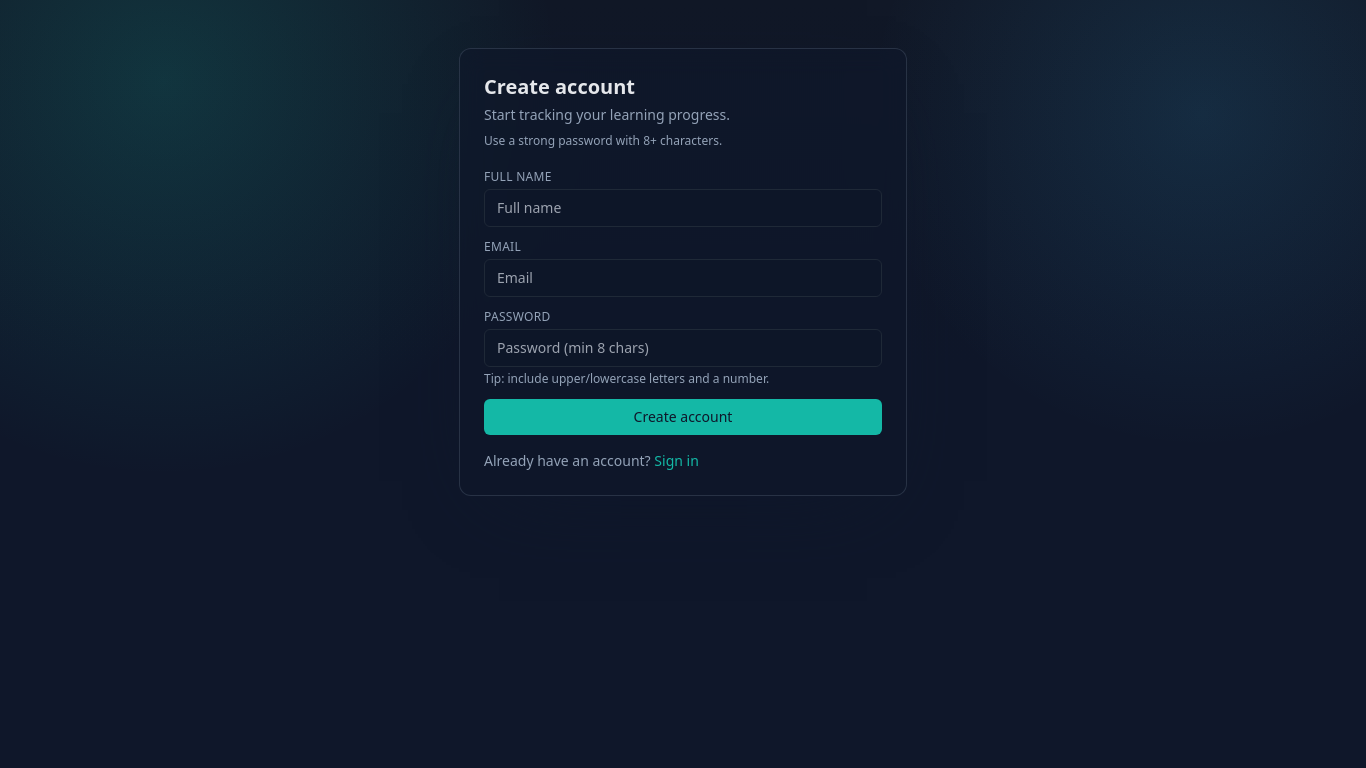
Frontend auth integration › shows register error when email is already used
This screenshot has width=1366, height=768.
Type "Existing User" into the field with placeholder "Full name". click: (683, 208)
box: [484, 189, 882, 227]
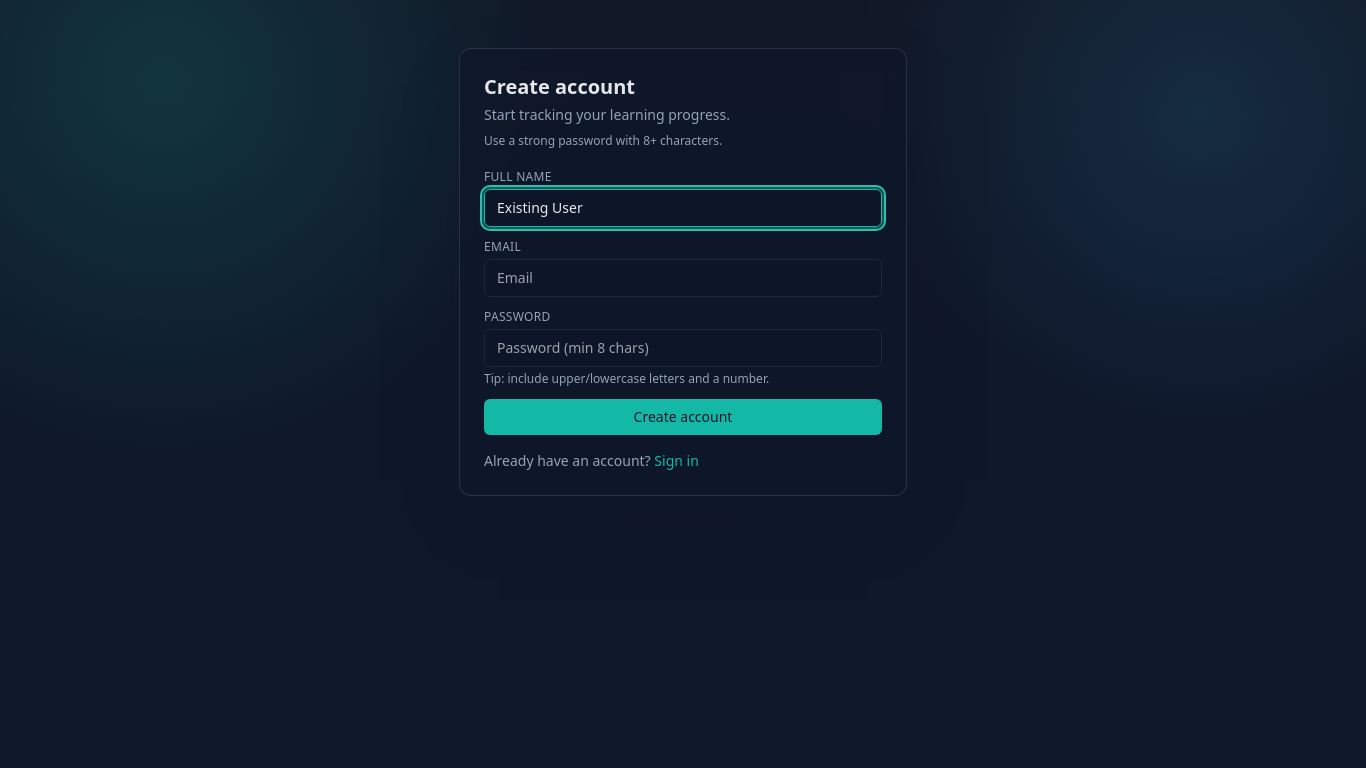
Type "existing@example.com" into the field with placeholder "Email". click: (683, 278)
box: [484, 259, 882, 297]
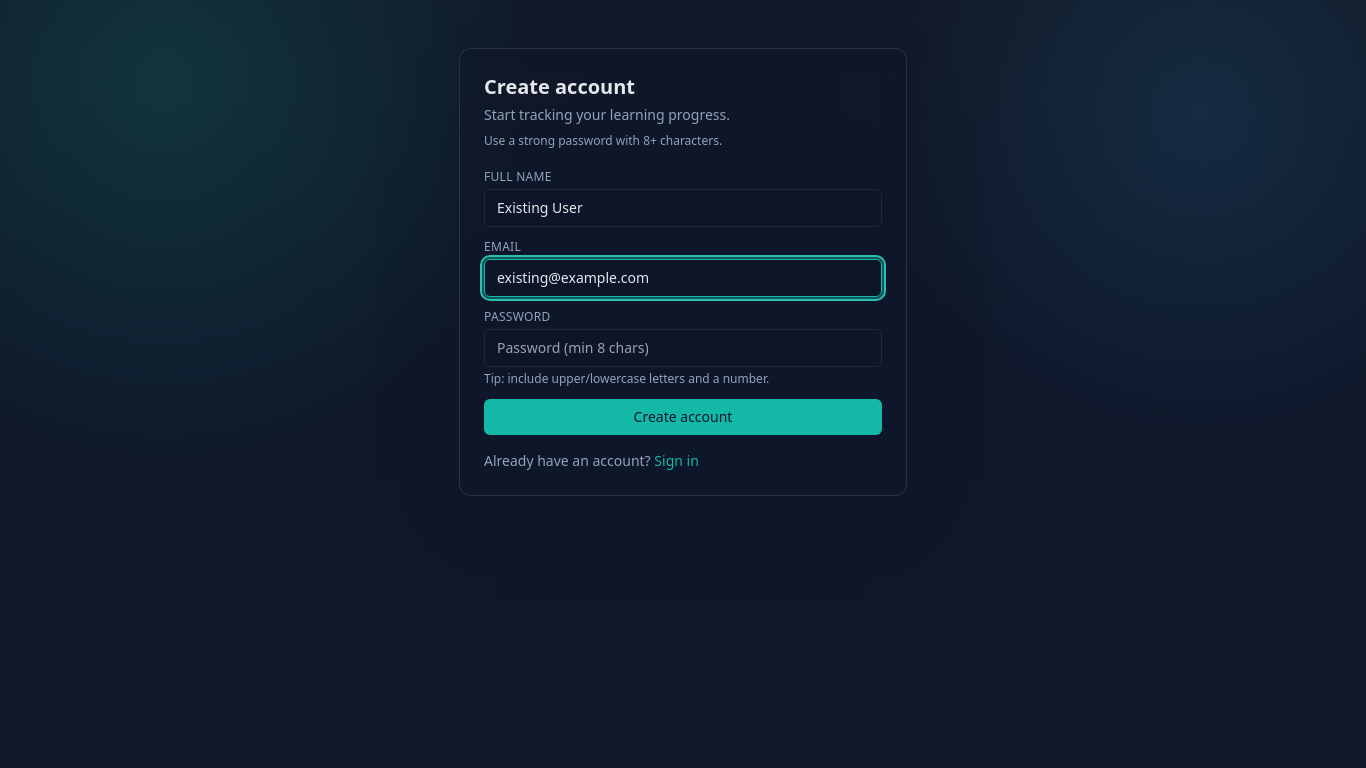
Type "StrongPass123" into the password field with placeholder "Password (min 8 chars)". click: (683, 348)
box: [484, 329, 882, 367]
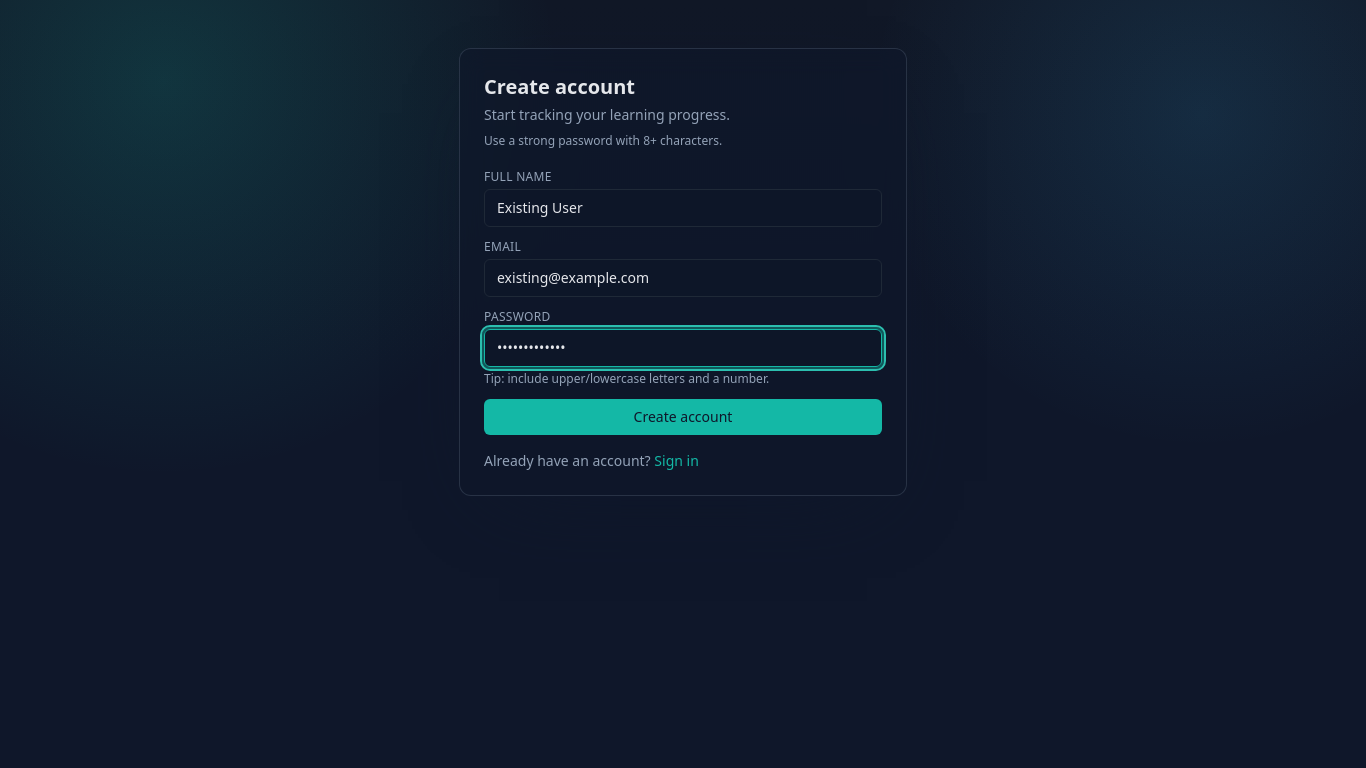
Click the button "Create account". click: (683, 417)
box: [484, 399, 882, 435]
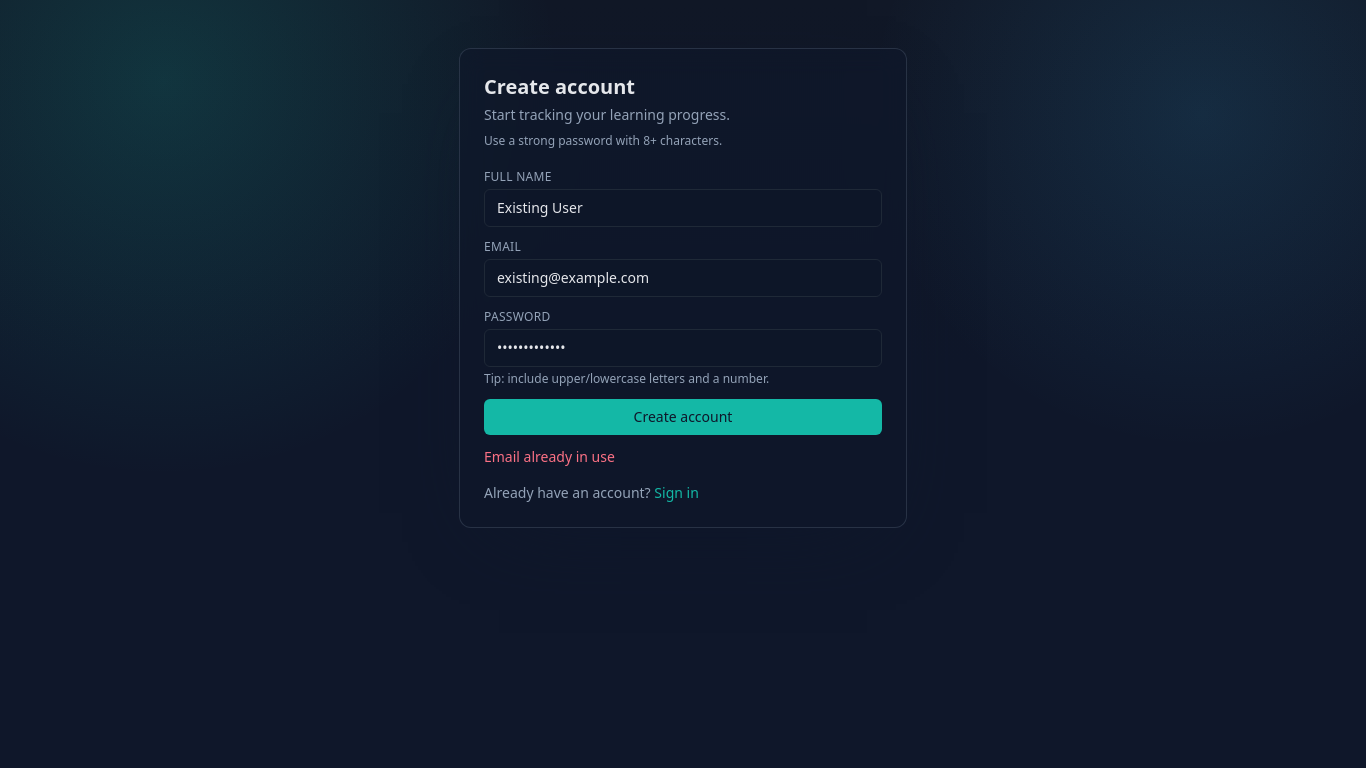
Result: the text "Email already in use" is shown at [484, 447, 615, 466]
